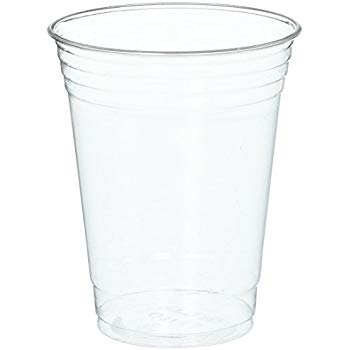plastic_glass: (33, 1, 329, 345)
